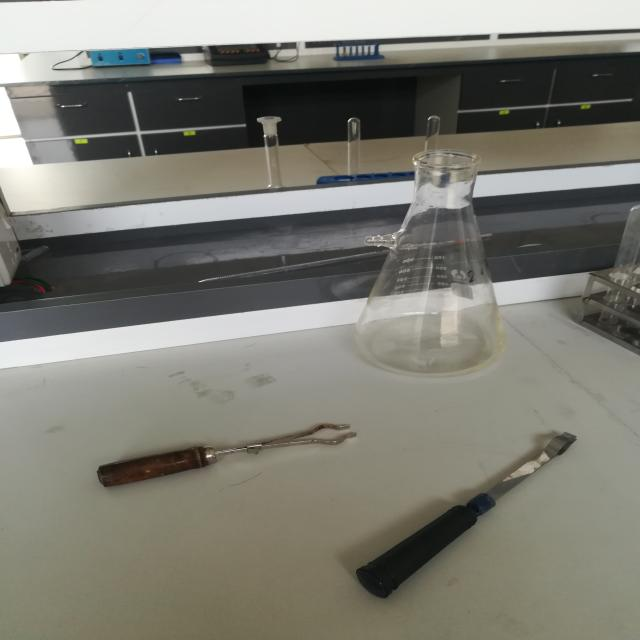Conical_Flask: (351, 125, 518, 382)
TestTube_Holder: (346, 404, 600, 622), (62, 410, 372, 506)
